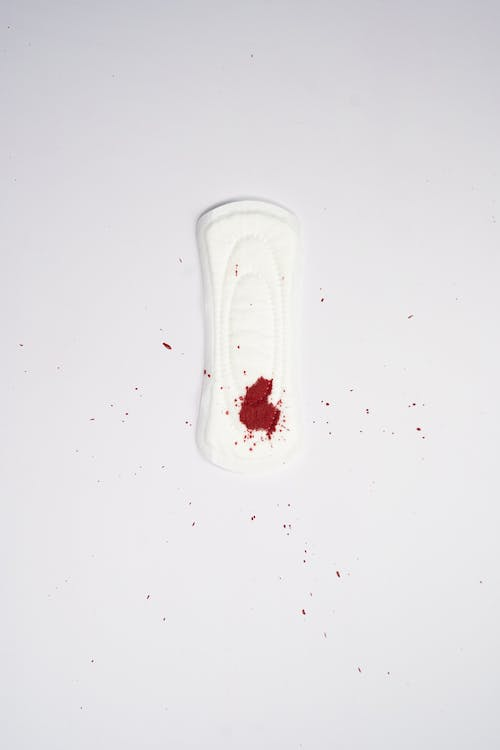blood: (223, 363, 289, 454)
